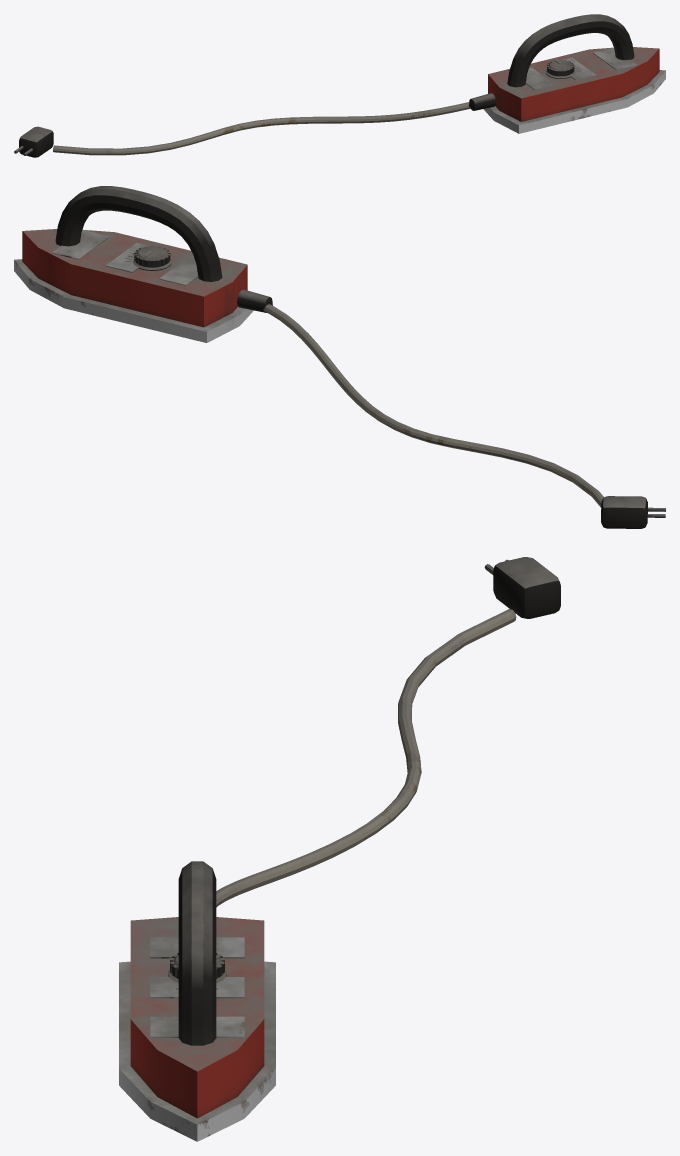
Rendered from SM_Iron_Electric.fbx.
3 views of the same model, one above another, from view 1: azimuth 30°, elevation 25°; view 2: azimuth 150°, elevation 25°; view 3: azimuth 270°, elevation 25° (orthographic). The views are drawn at different scales.
Visible parts, largest first — view 1: SM_Iron_Electric; view 2: SM_Iron_Electric; view 3: SM_Iron_Electric.
Part boxes in pixels (x1,y1,x2,y2): SM_Iron_Electric: [14, 14, 665, 157]; SM_Iron_Electric: [14, 186, 665, 528]; SM_Iron_Electric: [119, 557, 560, 1141].
Size of the model in its own units: 0.8444 by 0.1167 by 0.2816.
1 material, 1 textured.
